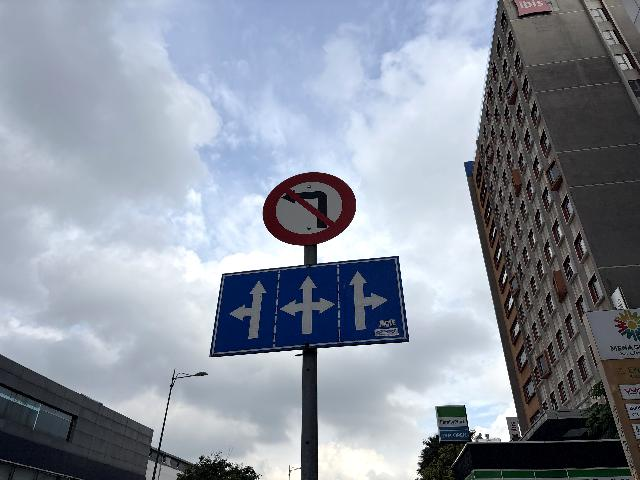cam-re-trai: (261, 170, 357, 245)
